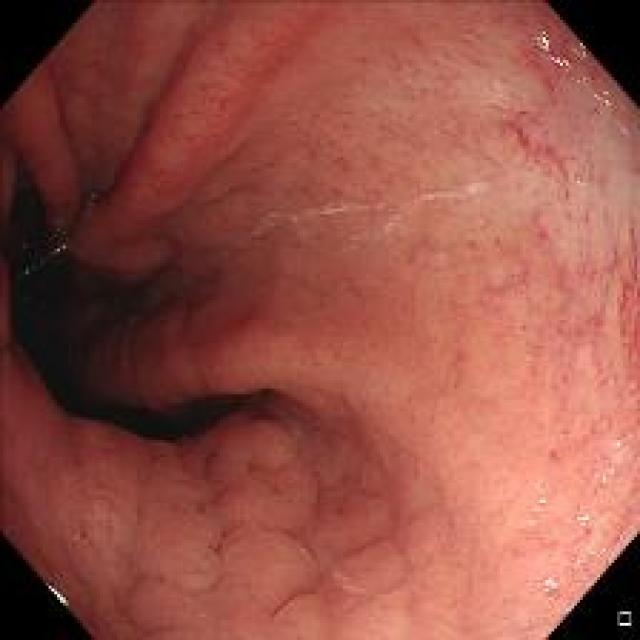color misalignment: (524, 11, 621, 122), (16, 235, 72, 281)
contrast: (10, 158, 259, 448)
specularity: (599, 425, 638, 460), (521, 485, 551, 530), (531, 566, 568, 600), (584, 458, 621, 488), (42, 578, 74, 608), (566, 508, 599, 536)
